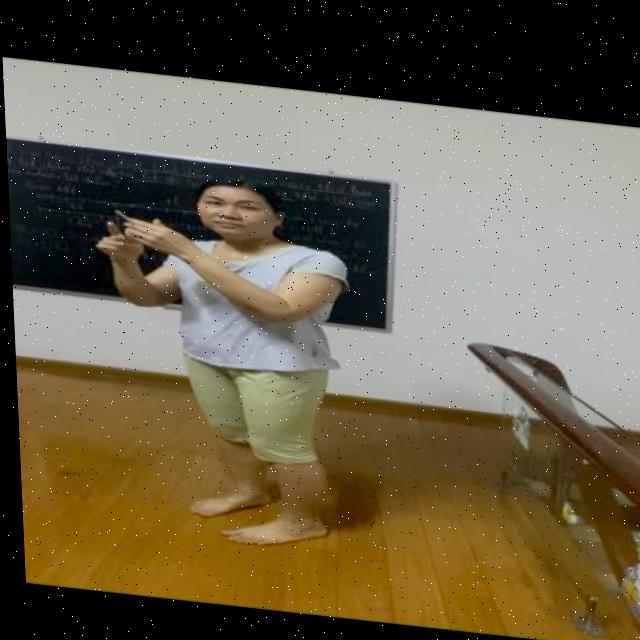cigarette: (110, 207, 132, 221)
